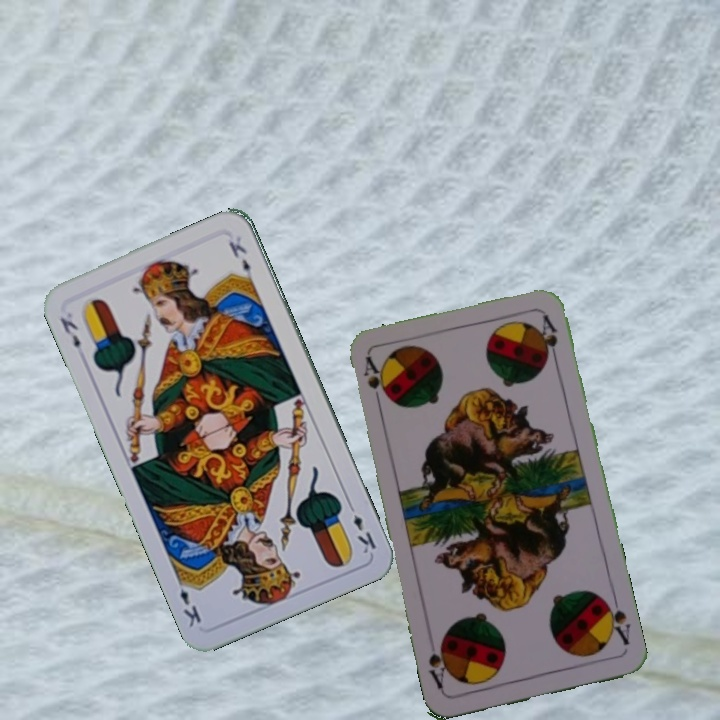EK: (344, 499, 379, 557), (56, 313, 83, 351)
SA: (600, 594, 633, 648), (359, 353, 389, 411)
